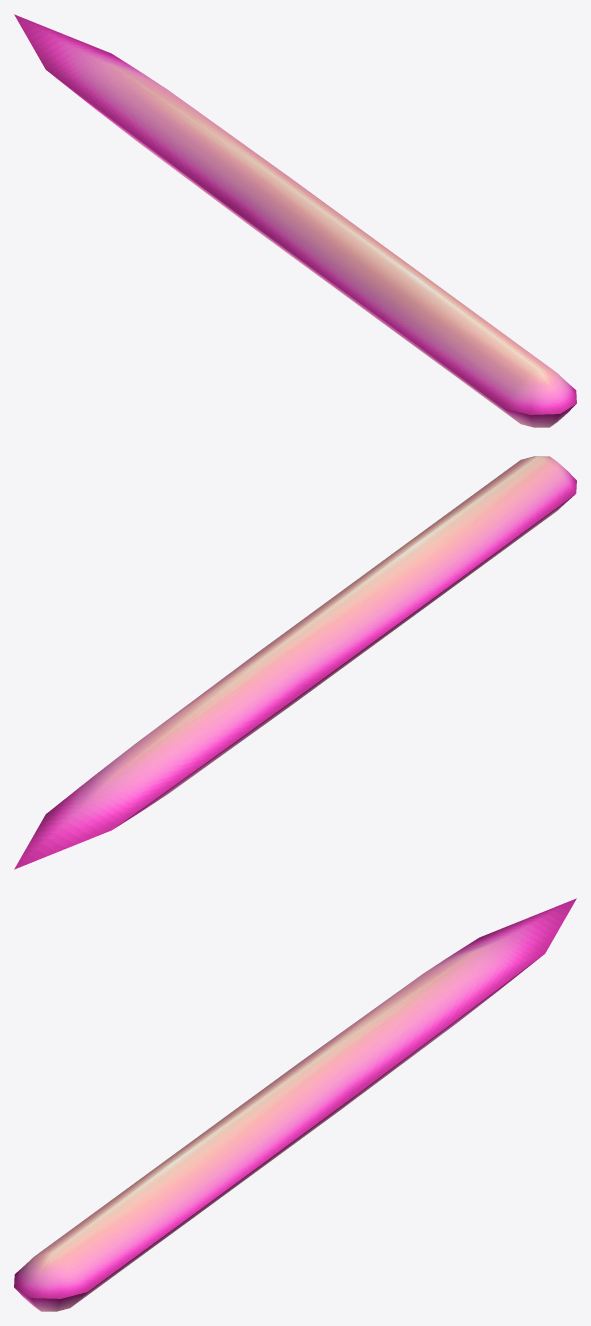
File: M15_enemy_laser.fbx
3 views of the same model, one above another, from view 1: azimuth 30°, elevation 25°; view 2: azimuth 150°, elevation 25°; view 3: azimuth 330°, elevation 25° (orthographic).
Parts seen in each view (by area): view 1: M14_enemy_shot_model; view 2: M14_enemy_shot_model; view 3: M14_enemy_shot_model.
Part boxes in pixels (left/top/right/bottom): M14_enemy_shot_model: left=14, top=14, right=576, bottom=427; M14_enemy_shot_model: left=14, top=456, right=576, bottom=869; M14_enemy_shot_model: left=14, top=898, right=576, bottom=1311.
Bounding box in the file's own units: 1.13 × 0.9207 × 14.69.
